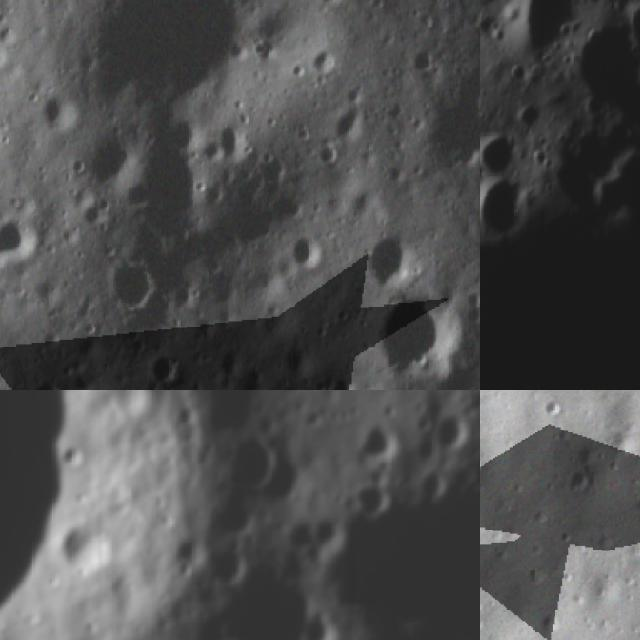crater: (0, 390, 222, 640), (219, 426, 295, 501), (390, 289, 458, 372), (111, 244, 162, 310), (354, 406, 408, 468), (366, 225, 414, 284), (96, 132, 141, 192), (480, 182, 523, 236), (348, 471, 398, 517), (427, 399, 468, 455), (185, 602, 240, 640), (292, 219, 331, 270), (0, 216, 38, 267), (414, 461, 457, 506), (480, 136, 515, 176), (222, 119, 253, 162), (154, 346, 186, 386), (338, 101, 365, 148), (37, 93, 74, 127), (314, 42, 338, 78), (33, 379, 62, 390), (312, 0, 345, 8)
